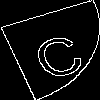C: (25, 24, 89, 82)
